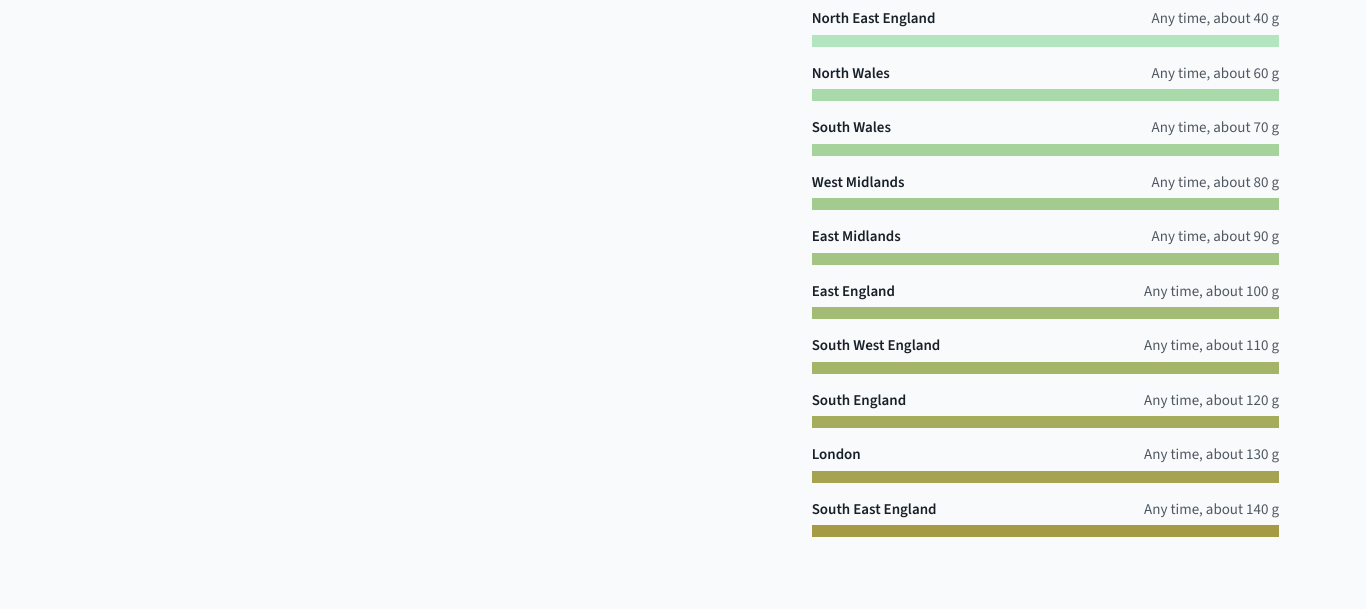
Scenario: shows the region a list row is pressed for, and puts it in the address
This screenshot has width=1366, height=609.
(page scrolled)
Click the button "London Any time, about 130 g".
click(836, 455)  # box [804,436,1287,491]
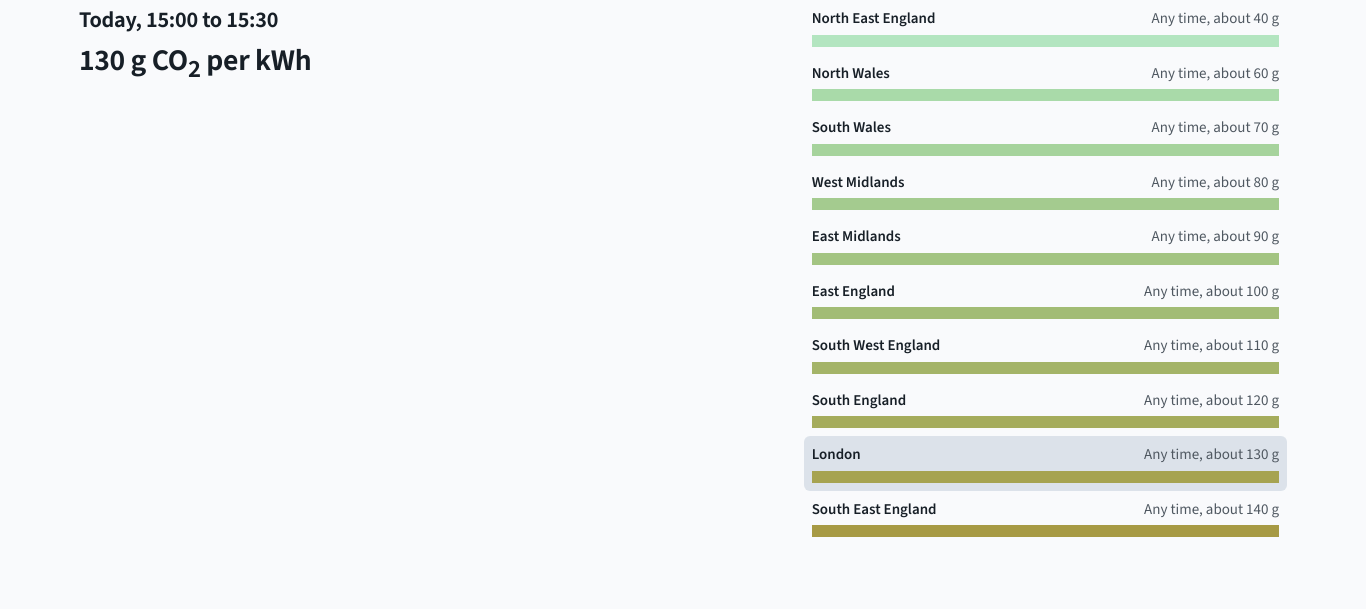
Expected: the button "London Any time, about 130 g" is pressed, [804,436,1287,491]
